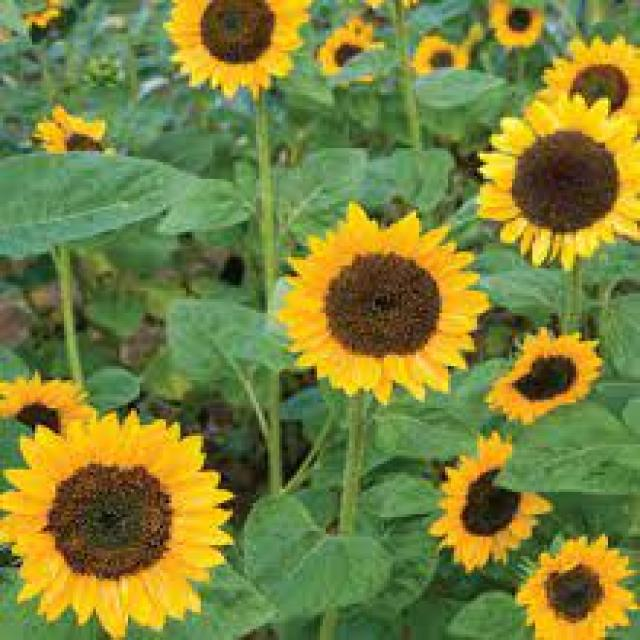sunflower: (0, 407, 249, 640), (270, 193, 498, 416), (472, 80, 640, 276), (427, 427, 556, 581), (155, 0, 322, 101), (506, 525, 640, 640), (490, 315, 617, 427), (535, 25, 640, 152), (3, 368, 107, 469), (28, 98, 126, 185), (317, 23, 389, 109), (407, 32, 474, 88), (483, 0, 552, 54), (16, 0, 84, 45), (354, 0, 423, 16)
